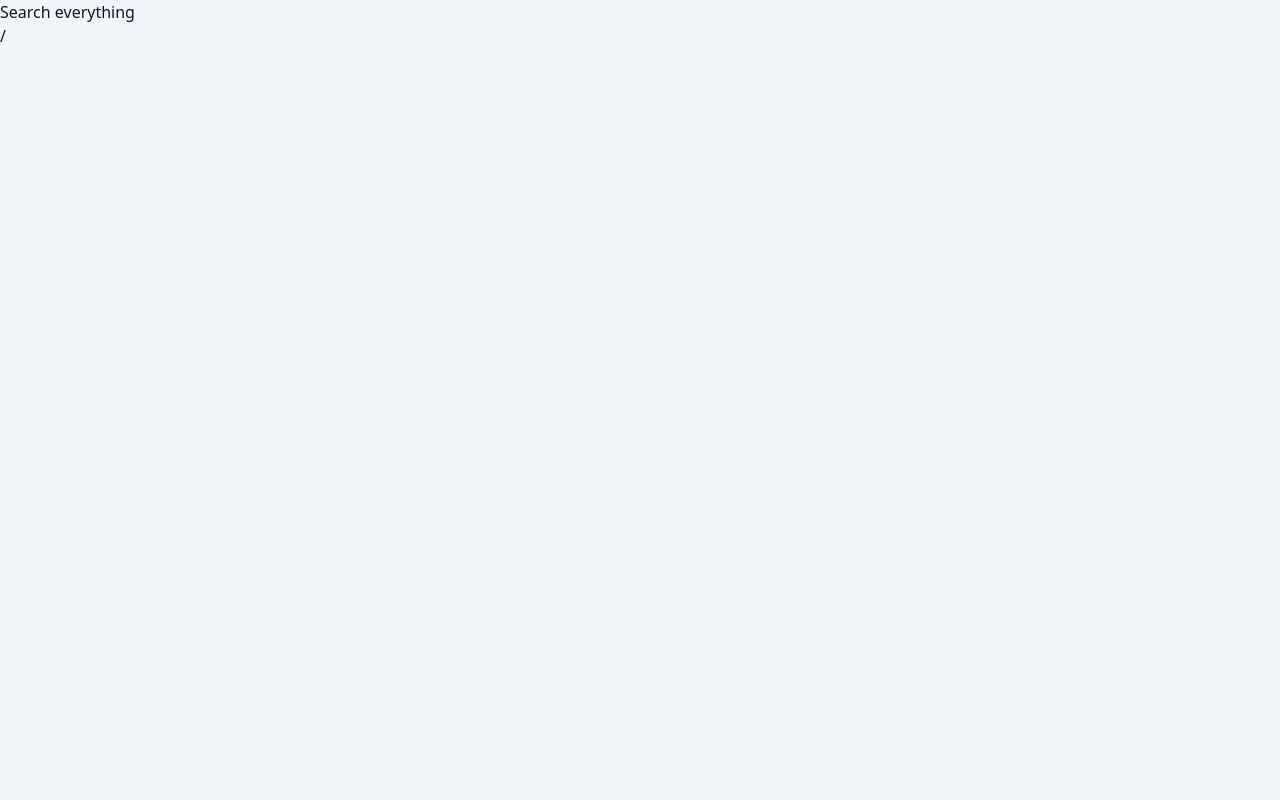
Test case: CommandPalette (T17.3) › closes when the operator clicks outside the palette
This screenshot has width=1280, height=800.
Type keys "{Control>}k{/Control}"
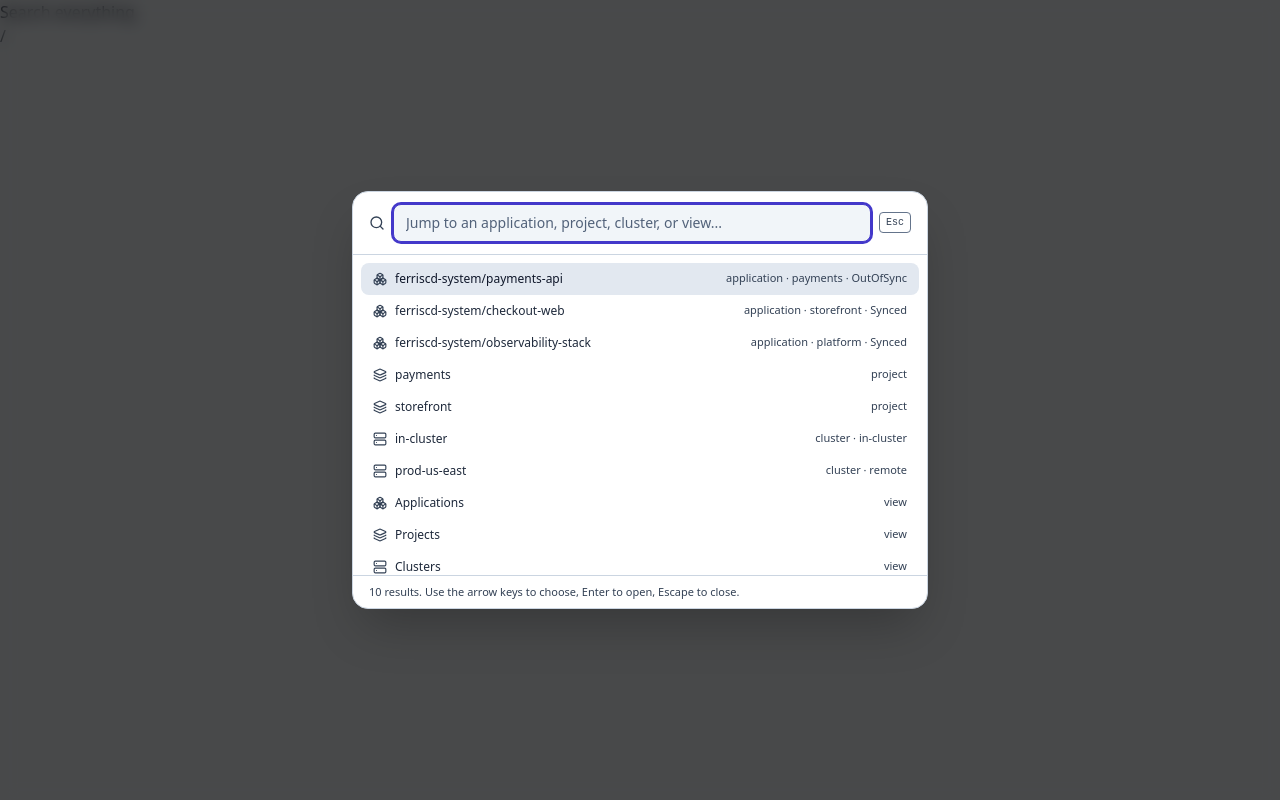
expect the dialog is shown: met
Click the element with test id "modal-outside". click: (640, 400)
box: [352, 191, 928, 609]
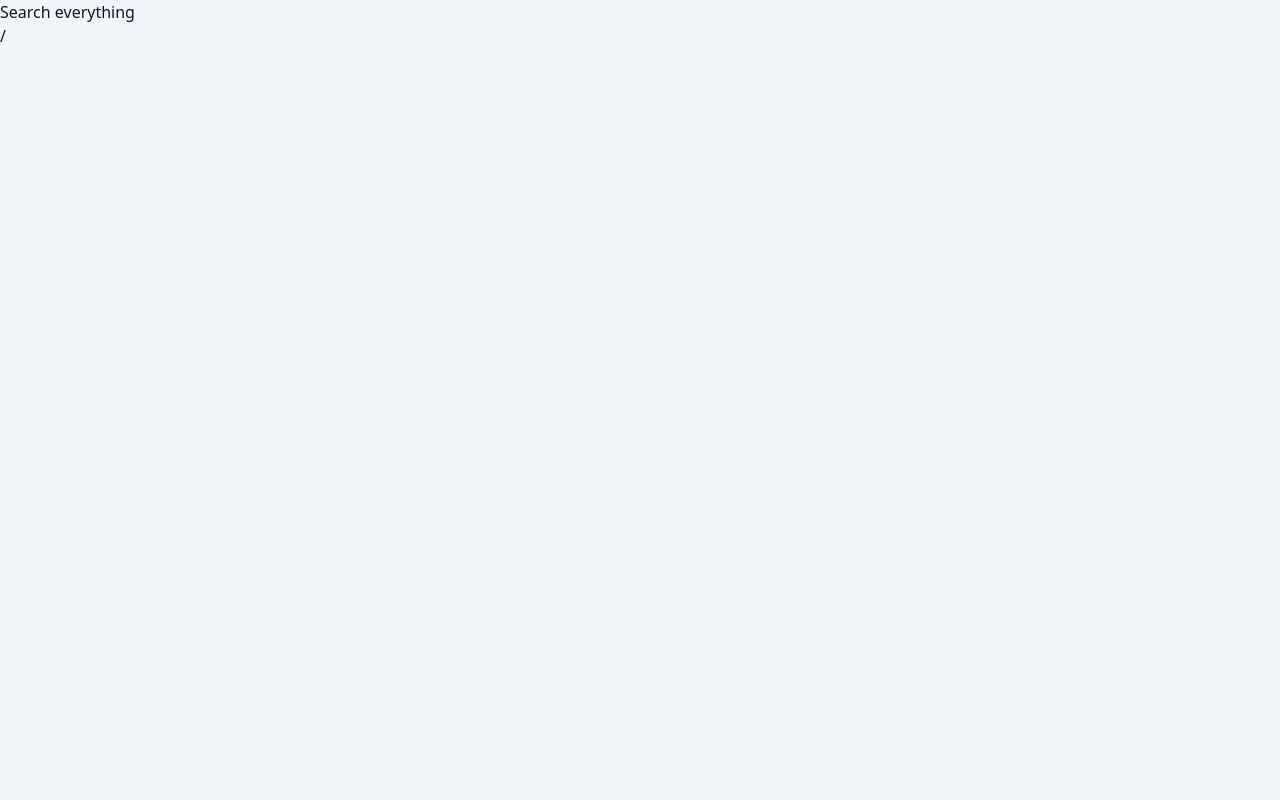
expect the dialog is gone: met
